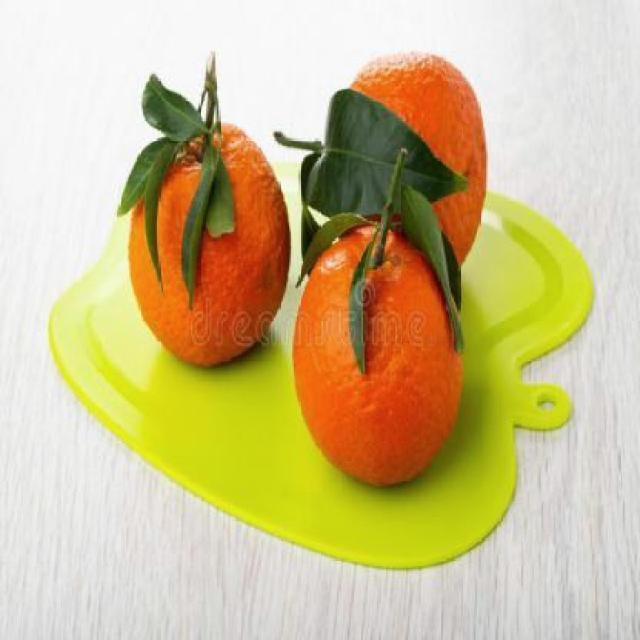Jeruk Sudah Matang: (292, 226, 468, 488), (135, 122, 291, 368), (329, 53, 483, 298)
